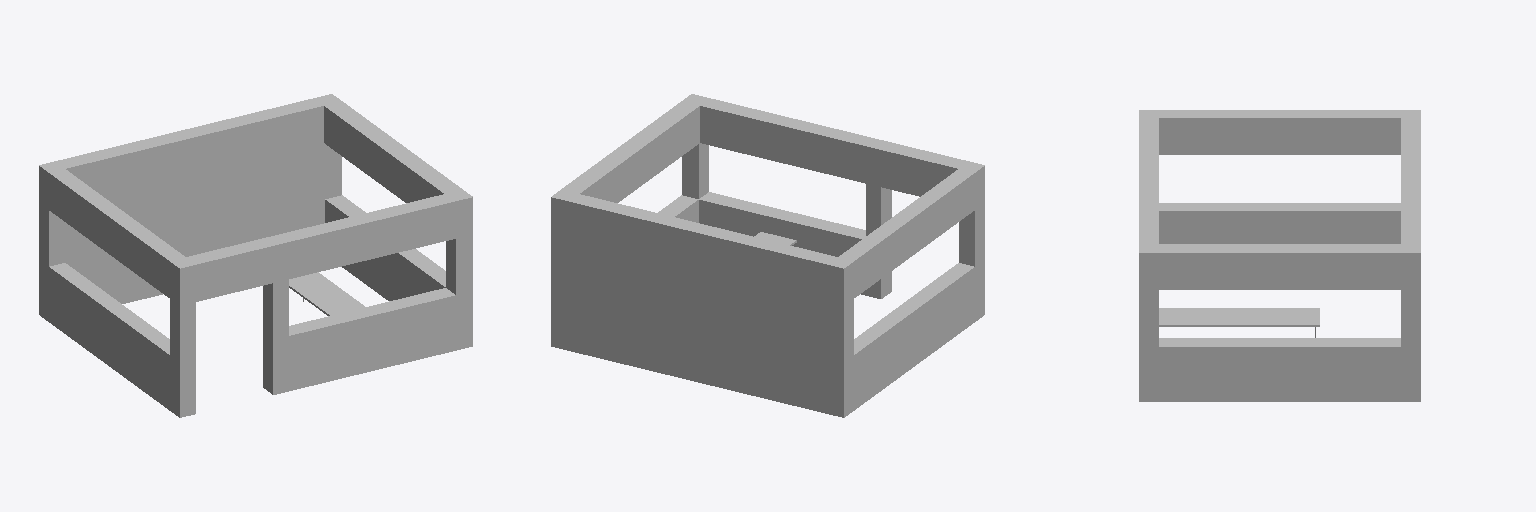
Rendered from pumpStall.obj.
3 renders of one model, left to right at view 1: azimuth 30°, elevation 25°; view 2: azimuth 150°, elevation 25°; view 3: azimuth 270°, elevation 25°, orthographic.
Visible parts, largest first — view 1: polySurface2; view 2: polySurface2; view 3: polySurface2.
Part boxes in pixels (x1,y1,x2,y2): polySurface2: (39, 94, 472, 417); polySurface2: (551, 94, 984, 417); polySurface2: (1139, 110, 1420, 401).
Size of the model in its own units: 8.22 by 4 by 6.85.